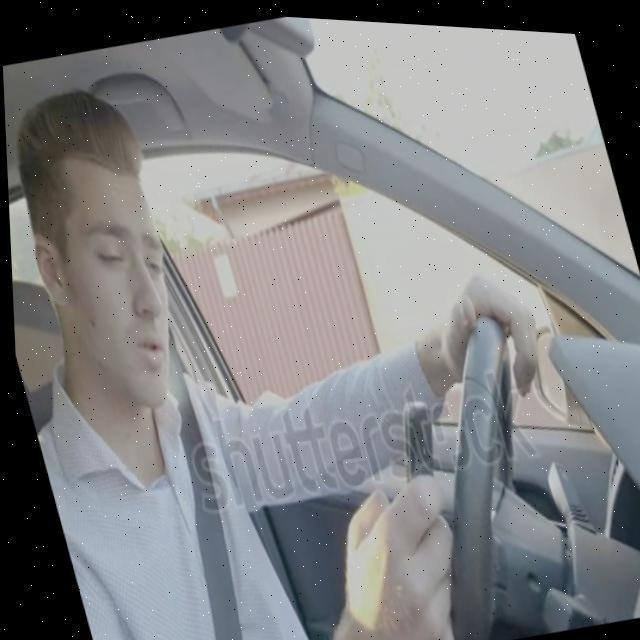PhoneCall: (380, 390, 455, 528)
